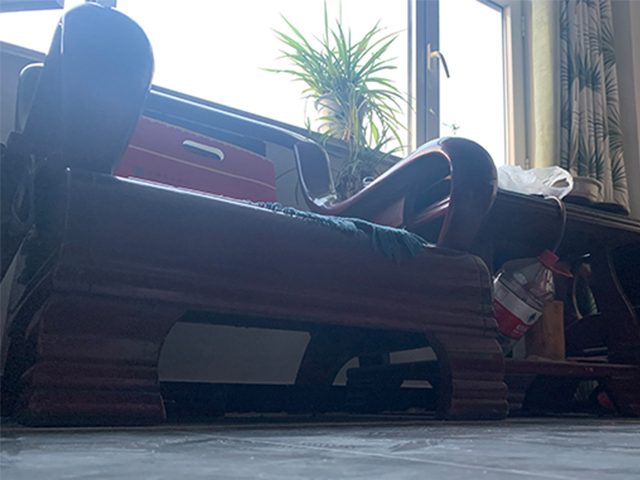curtain: (524, 2, 629, 208)
sofa: (1, 2, 511, 426)
